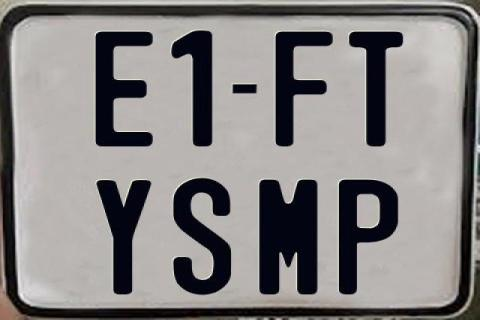0: (168, 29, 214, 149)
E: (94, 29, 156, 147)
F: (274, 29, 338, 148)
M: (256, 178, 320, 296)
P: (339, 177, 401, 297)
S: (173, 176, 233, 298)
T: (346, 29, 402, 148)
Y: (93, 179, 152, 297)
